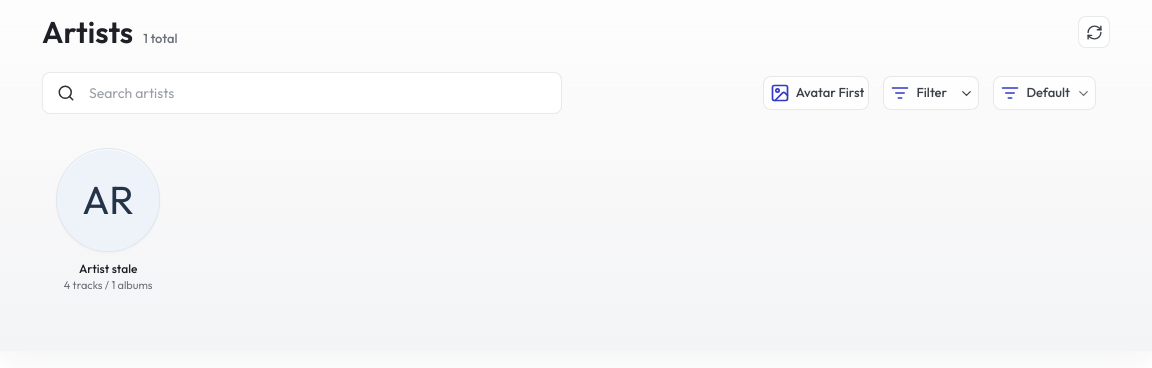
Test case: ArtistsPage › refresh button reloads page 1 without rebuilding album grouping
Expected: the text "Artist stale" is shown, left=79, top=261, right=137, bottom=276
Click the button named "Refresh" at (1094, 32), box left=1078, top=16, right=1110, bottom=48
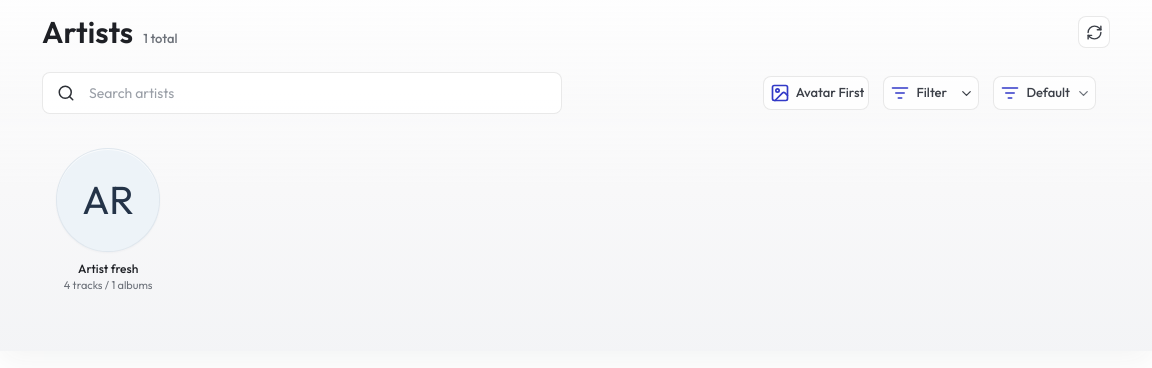
Expected: the text "Artist fresh" is shown, left=78, top=261, right=138, bottom=276
